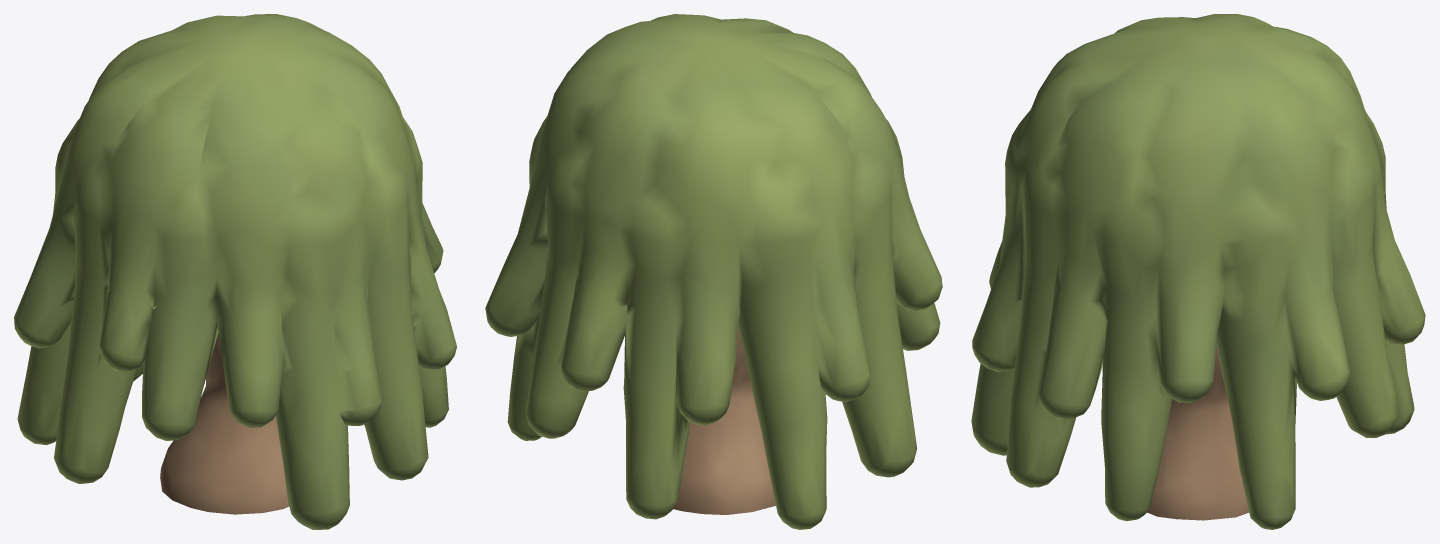
File: willow_fast.glb
3 renders of one model, left to right at view 1: azimuth 30°, elevation 25°; view 2: azimuth 150°, elevation 25°; view 3: azimuth 270°, elevation 25°, orthographic. The views are drawn at different scales.
Parts seen in each view (by area): view 1: willow_crown, body; view 2: willow_crown, body; view 3: willow_crown, body.
Part boxes in pixels (x1,y1,x2,y2): willow_crown: (14, 14, 456, 529); body: (160, 333, 289, 514); willow_crown: (485, 14, 942, 529); body: (673, 327, 775, 514); willow_crown: (971, 14, 1425, 529); body: (1147, 345, 1249, 520).
Size of the model in its own units: 4.12 by 4.5 by 4.09.
